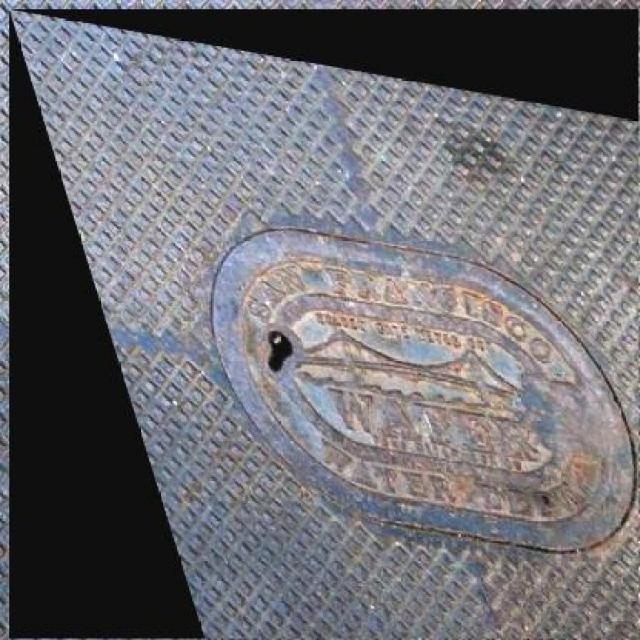Manhole: (9, 9, 638, 638)
